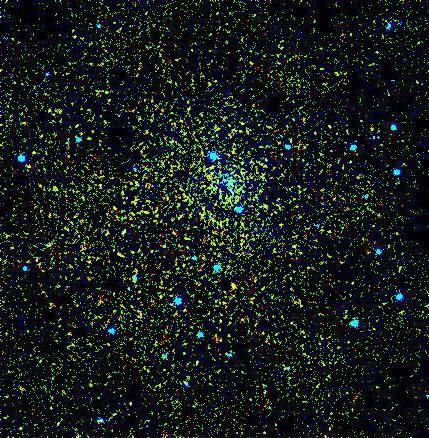star: (215, 272, 245, 302)
